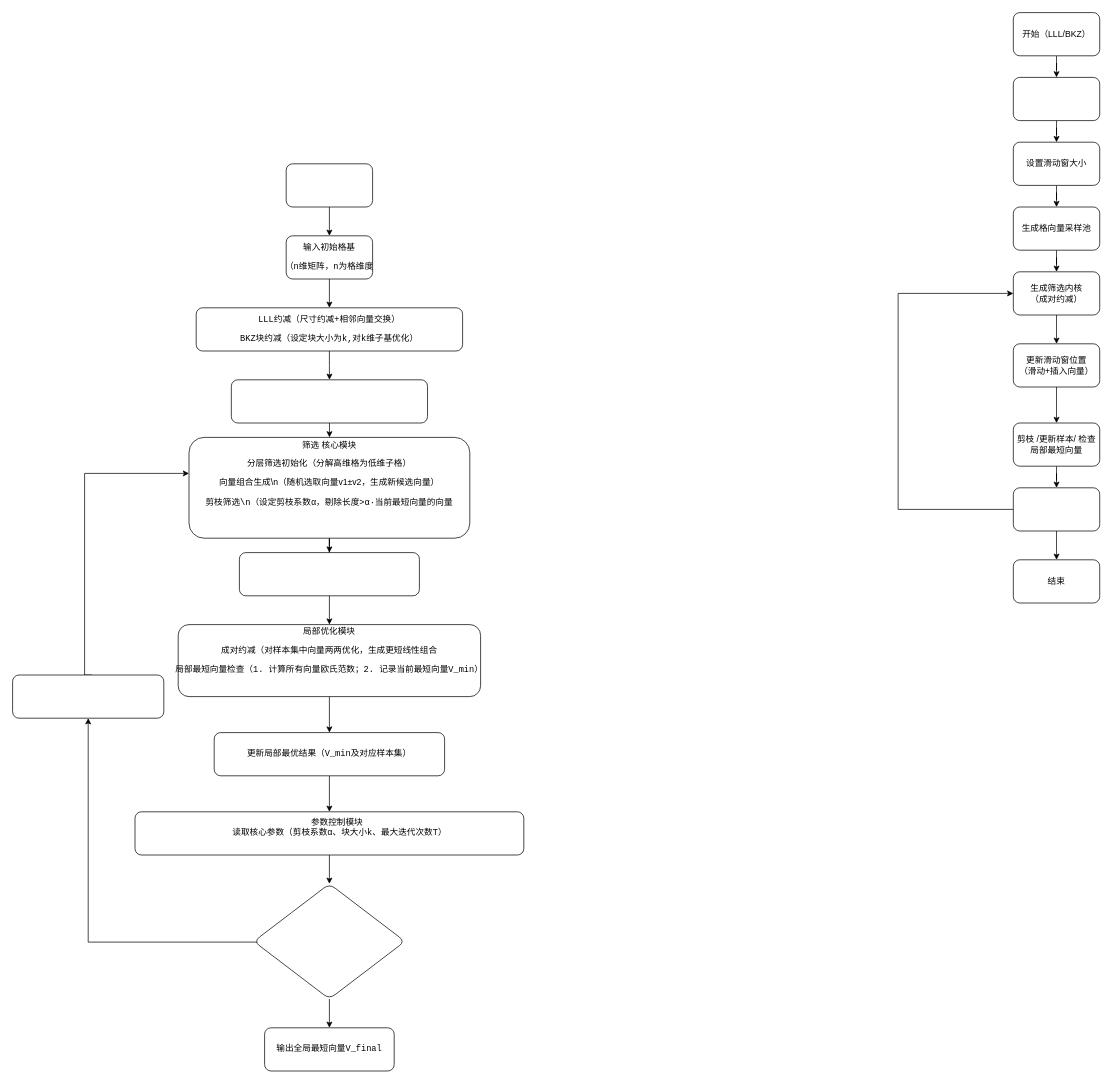
Some shapes in this 1112 by 1084 pixel diagram are drawn without their labels. The shapes that lost their labels are listed below. From the top down, each one's centre as x and y in pixels, then its label:
At (x=1056, y=99): "初始化 格 B".
At (x=329, y=185): "开始".
At (x=329, y=401): "初始化优化基（向量长度更短、正交性提升）".
At (x=1056, y=509): "结果收敛".
At (x=329, y=574): "精简候选样本集（仅保留高潜力短向量）".
At (x=88, y=696): "刷新样本模块 补充新向量组合 & 合并原有样本集".
At (x=329, y=941): "是否收敛 （ V_min长度连续3次迭代无下降 ||迭代次数≥T ）".
